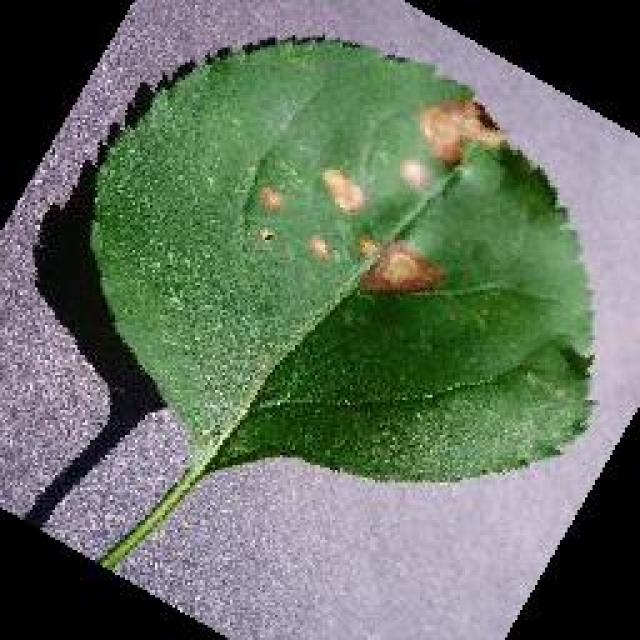Apple___Black_rot: (88, 35, 606, 487)
